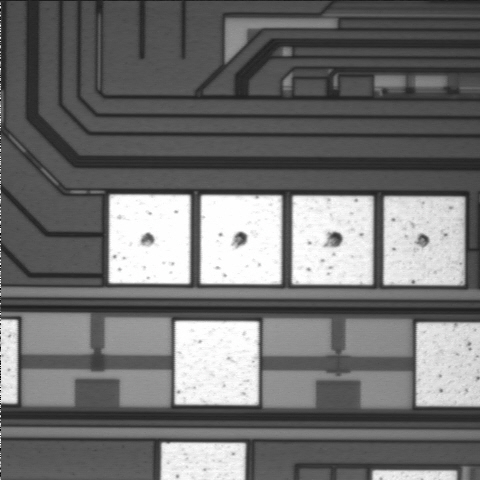pad: (109, 195, 191, 284), (200, 195, 282, 284), (292, 196, 373, 285), (384, 196, 465, 285), (175, 321, 259, 405)
